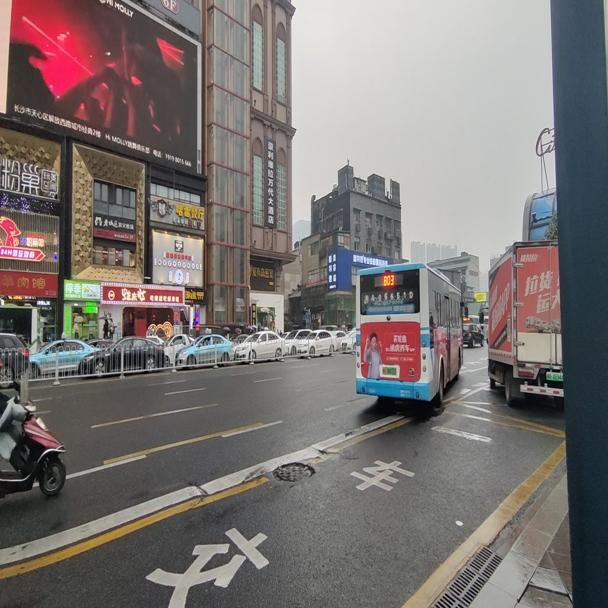bus: (354, 258, 468, 409)
screen: (382, 274, 394, 285)
